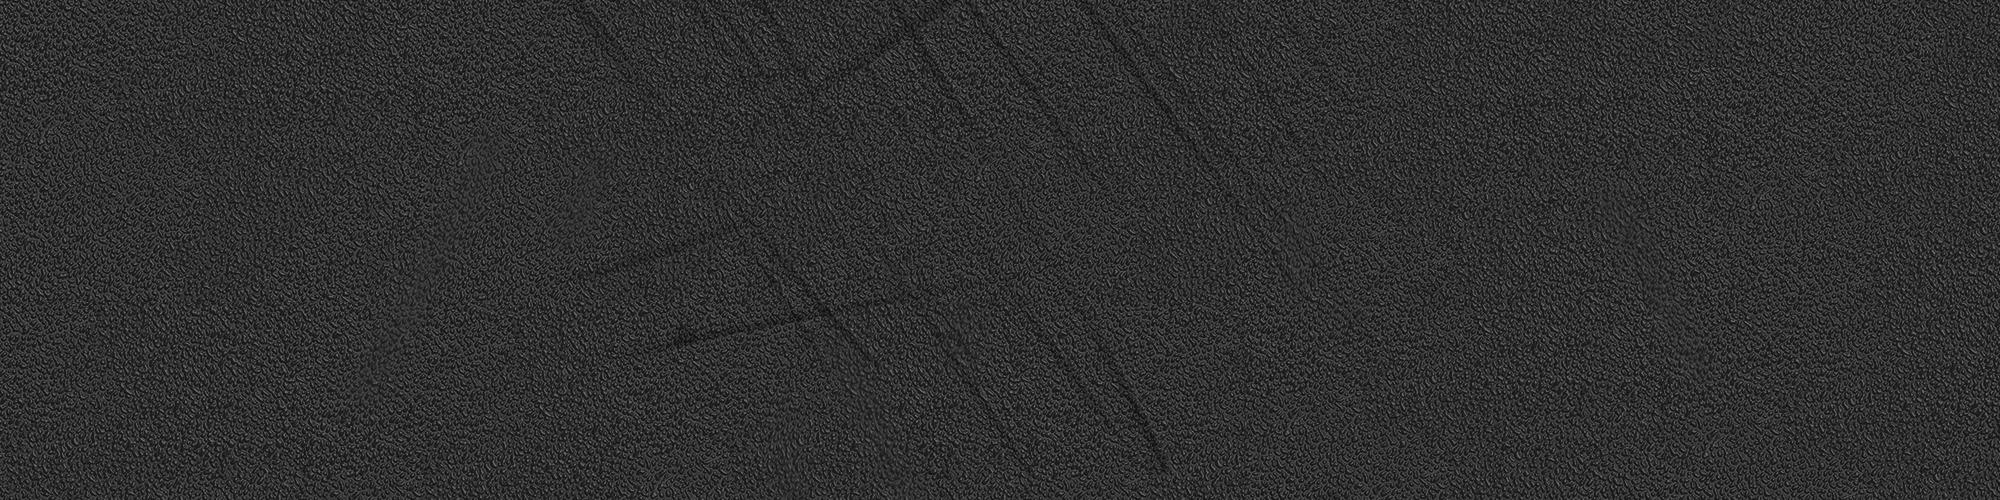Scratches: (568, 8, 1358, 298), (709, 11, 1170, 487), (569, 6, 881, 374)
